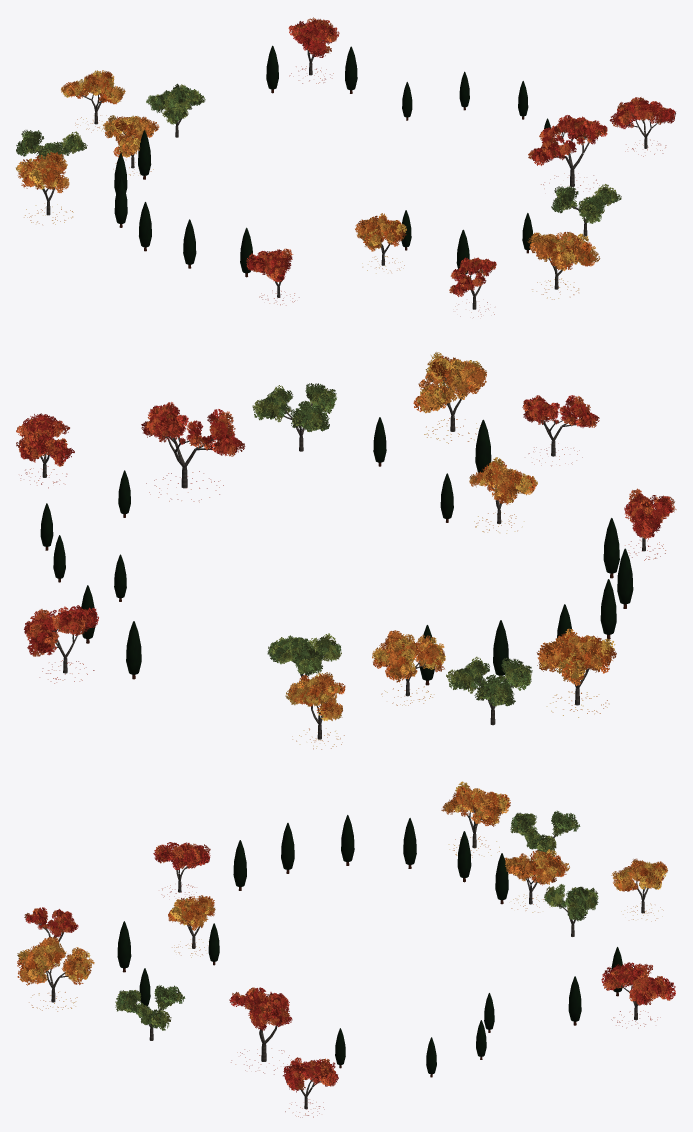
Rendered from trees-merged.glb.
3 views of the same model, one above another, from view 1: azimuth 30°, elevation 25°; view 2: azimuth 150°, elevation 25°; view 3: azimuth 270°, elevation 25° (orthographic). The views are drawn at different scales.
Parts seen in each view (by area): view 1: cypress_Cypress, maple-5_MeshStandardMaterial, maple-1_MeshStandardMaterial, maple-8_MeshStandardMaterial, maple-6_MeshStandardMaterial, maple-4_MeshStandardMaterial, maple-1_MapleBark, maple-3_MeshStandardMaterial, maple-2_MeshStandardMaterial, maple-7_MeshStandardMaterial; view 2: cypress_Cypress, maple-1_MeshStandardMaterial (×2), maple-5_MeshStandardMaterial, maple-6_MeshStandardMaterial, maple-8_MeshStandardMaterial, maple-4_MeshStandardMaterial, maple-1_MapleBark, maple-3_MeshStandardMaterial, maple-2_MeshStandardMaterial, maple-7_MeshStandardMaterial; view 3: cypress_Cypress, maple-5_MeshStandardMaterial, maple-4_MeshStandardMaterial, maple-6_MeshStandardMaterial, maple-8_MeshStandardMaterial, maple-1_MeshStandardMaterial, maple-1_MapleBark, maple-2_MeshStandardMaterial, maple-3_MeshStandardMaterial, maple-7_MeshStandardMaterial.
Boxes of the visible parts, box(x1,y1,x2,y2) form: cypress_Cypress: box(114, 45, 550, 274); maple-5_MeshStandardMaterial: box(103, 115, 600, 270); maple-1_MeshStandardMaterial: box(449, 115, 607, 296); maple-8_MeshStandardMaterial: box(15, 152, 406, 251); maple-6_MeshStandardMaterial: box(16, 130, 621, 223); maple-4_MeshStandardMaterial: box(288, 17, 675, 128); maple-1_MapleBark: box(33, 40, 657, 309); maple-3_MeshStandardMaterial: box(146, 83, 205, 124); maple-2_MeshStandardMaterial: box(61, 70, 125, 104); maple-7_MeshStandardMaterial: box(246, 248, 293, 282); cypress_Cypress: box(40, 417, 633, 680); maple-1_MeshStandardMaterial (×2): box(20, 395, 665, 749); maple-5_MeshStandardMaterial: box(372, 352, 486, 682); maple-6_MeshStandardMaterial: box(252, 383, 532, 706); maple-8_MeshStandardMaterial: box(469, 457, 616, 685); maple-4_MeshStandardMaterial: box(16, 413, 98, 656); maple-1_MapleBark: box(40, 376, 645, 739); maple-3_MeshStandardMaterial: box(267, 633, 341, 676); maple-2_MeshStandardMaterial: box(285, 672, 345, 720); maple-7_MeshStandardMaterial: box(624, 488, 676, 539); cypress_Cypress: box(117, 815, 622, 1074); maple-5_MeshStandardMaterial: box(17, 849, 569, 985); maple-4_MeshStandardMaterial: box(283, 962, 675, 1092); maple-6_MeshStandardMaterial: box(115, 810, 580, 1030); maple-8_MeshStandardMaterial: box(168, 781, 510, 930); maple-1_MeshStandardMaterial: box(24, 907, 292, 1030); maple-1_MapleBark: box(38, 807, 648, 1109); maple-2_MeshStandardMaterial: box(611, 858, 667, 891); maple-3_MeshStandardMaterial: box(544, 884, 598, 921); maple-7_MeshStandardMaterial: box(153, 842, 210, 869).
Size of the model in its own units: 97.62 by 10.76 by 94.74.
Materials: 12 (11 with a texture image).
